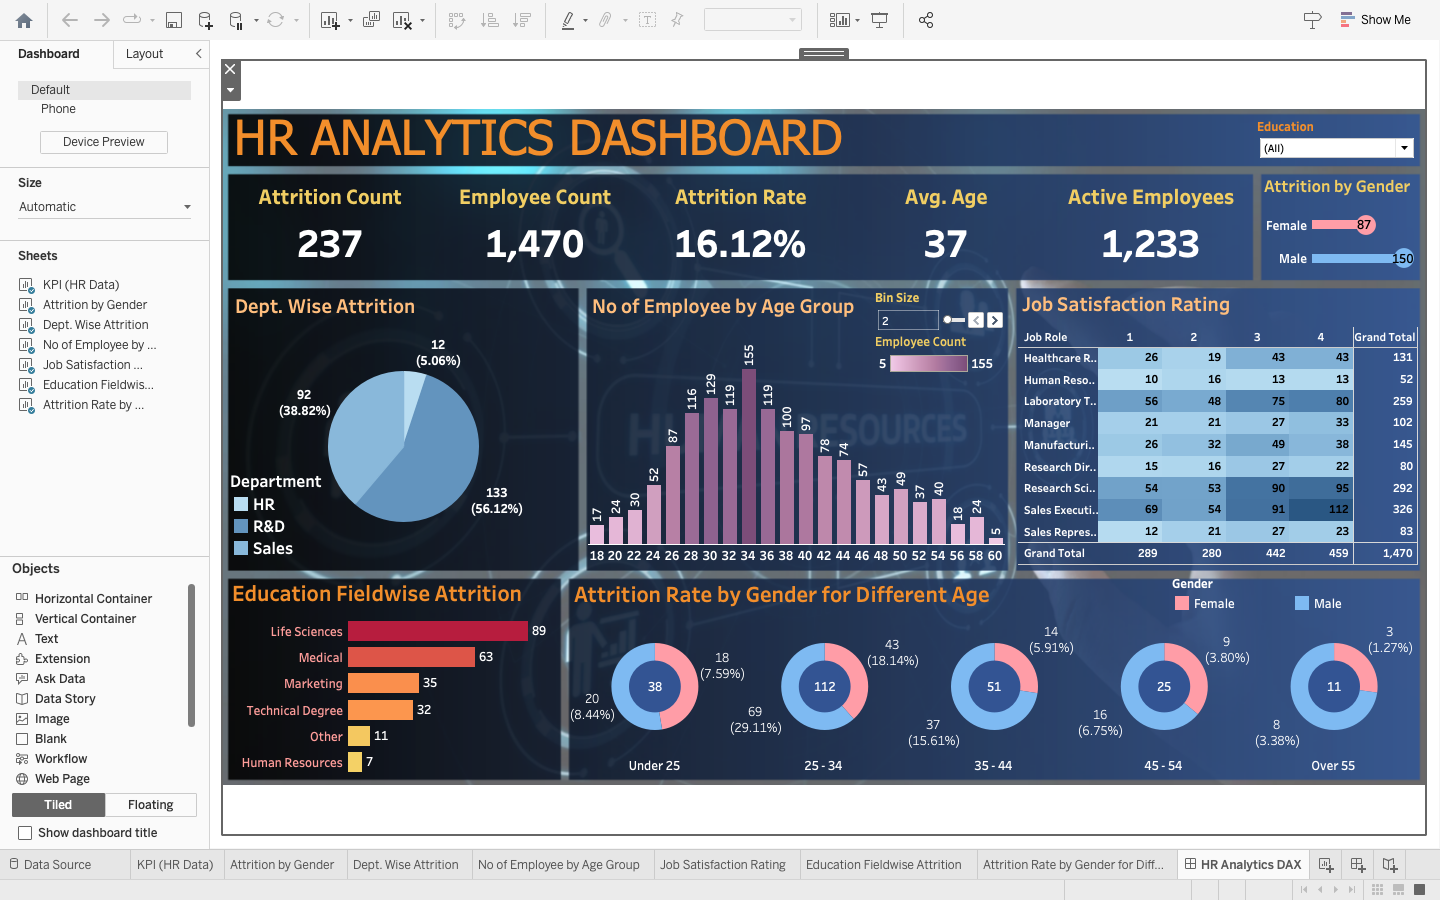

What the dashboard file says about the page in this screenshot:
{"tool":"tableau","page":{"name":"HR Analytics DAX","canvas":[1000,1000],"units":"permille","ordinal":0},"visuals":[{"type":"image","param":"Image/HR background.pptx.png","box":[10.6,26,978,956.7]},{"type":"text","box":[17.9,90.4,537,56.9]},{"type":"filter","title":"Attrition Rate by Gender for Different Age","param":"[federated.1p3ydy61fx8745127dhmj0al97th].[none:Education:nk]","box":[851.9,96.5,130.2,52]},{"type":"worksheet","title":"KPI (HR Data)","mark":"Automatic","box":[14.7,159.7,834.8,131.2]},{"type":"worksheet","title":"Attrition by Gender","mark":"Automatic","rows":["Gender"],"cols":["Calculation_281052778310467584","Calculation_281052778310467584"],"box":[854.4,162.1,129.4,128.7]},{"type":"worksheet","title":"Job Satisfaction Rating","mark":"Square","rows":["Job Role"],"cols":["Job Satisfaction"],"box":[657.5,304.5,325.5,345.3]},{"type":"worksheet","title":"Dept. Wise Attrition","mark":"Pie","box":[17.1,306.9,280.7,341.6]},{"type":"worksheet","title":"No of Employee by Age Group","mark":"Automatic","rows":["Employee Count"],"cols":["Age (bin)"],"box":[307.6,306.9,339.3,342.8]},{"type":"parameter","param":"[Parameters].[Parameter 1]","box":[541.1,308.2,106.6,54.5]},{"type":"legend","title":"No of Employee by Age Group","param":"[federated.1p3ydy61fx8745127dhmj0al97th].[sum:Employee Count:qk]","box":[541.1,362.6,100.1,54.5]},{"type":"legend","title":"Dept. Wise Attrition","param":"[federated.1p3ydy61fx8745127dhmj0al97th].[none:Department:nk]","box":[16.3,532.2,76.5,117.6]},{"type":"worksheet","title":"Education Fieldwise Attrition","mark":"Automatic","rows":["Education Field"],"cols":["Calculation_281052778310467584"],"box":[14.7,660.9,270.1,248.8]},{"type":"worksheet","title":"Attrition Rate by Gender for Different Age","mark":"Pie","rows":["Calculation_255016343638974467","Calculation_255016343638974467"],"cols":["CF_age band"],"box":[292.9,662.1,690.8,247.5]},{"type":"legend","title":"Attrition Rate by Gender for Different Age","param":"[federated.1p3ydy61fx8745127dhmj0al97th].[none:Gender:nk]","box":[782.8,662.1,199.3,52]}]}

Visuals, with their boxes on the dashboard's canvas, which has no fixed pixel size, in thousandths of its width and height (x1, y1, x2, y2). These are canvas units, not pixel positions in the 1440x900 screenshot, which may show the page scaled, cropped or inside an application window:
image: detection(11, 26, 989, 983)
text: detection(18, 90, 555, 147)
"Attrition Rate by Gender for Different Age" filter: detection(852, 96, 982, 148)
"KPI (HR Data)" worksheet: detection(15, 160, 850, 291)
"Attrition by Gender" worksheet: detection(854, 162, 984, 291)
"Job Satisfaction Rating" worksheet (Square marks): detection(658, 304, 983, 650)
"Dept. Wise Attrition" worksheet (Pie marks): detection(17, 307, 298, 648)
"No of Employee by Age Group" worksheet: detection(308, 307, 647, 650)
parameter: detection(541, 308, 648, 363)
"No of Employee by Age Group" legend: detection(541, 363, 641, 417)
"Dept. Wise Attrition" legend: detection(16, 532, 93, 650)
"Education Fieldwise Attrition" worksheet: detection(15, 661, 285, 910)
"Attrition Rate by Gender for Different Age" worksheet (Pie marks): detection(293, 662, 984, 910)
"Attrition Rate by Gender for Different Age" legend: detection(783, 662, 982, 714)
